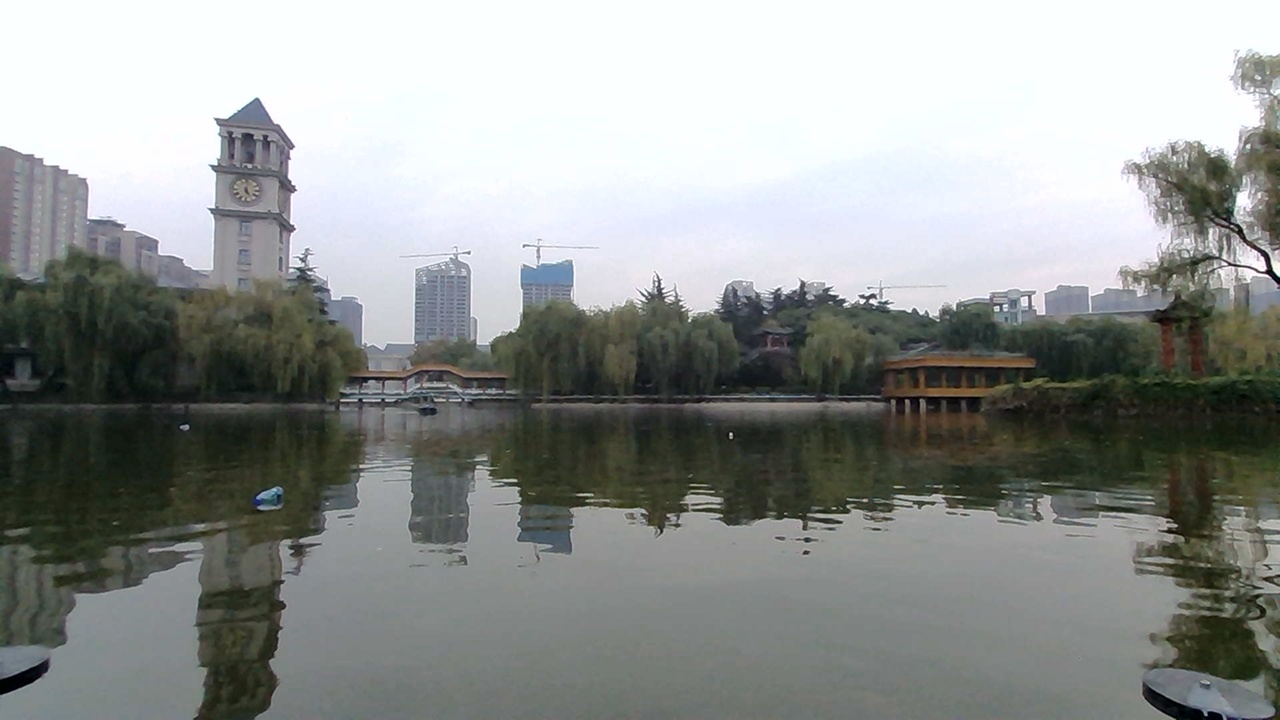bottle: (711, 420, 749, 445), (249, 487, 288, 511), (174, 413, 213, 436)
